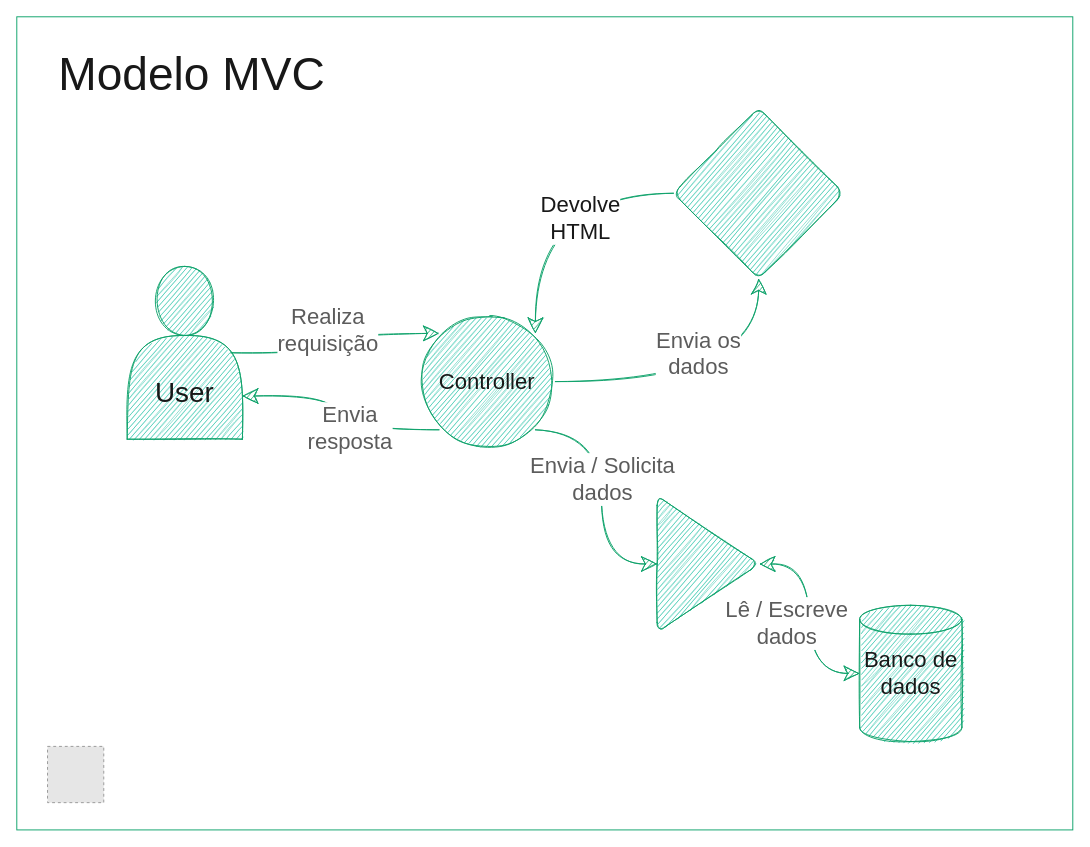
Image size: 1090x847. Some labels were removed from this diagram. Grey dashed boxes stand in for pictures. Here are the shapes that lost their labels. From the top down, the centre of each, then its label:
(758,192): View
(707,563): Model
